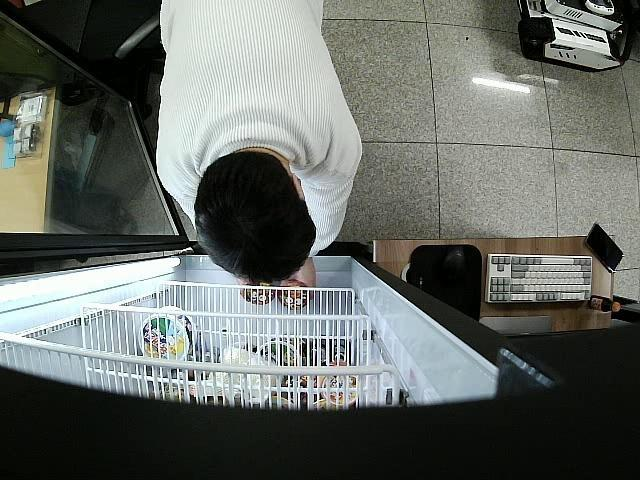06_nuguri_S: (278, 284, 310, 310)
